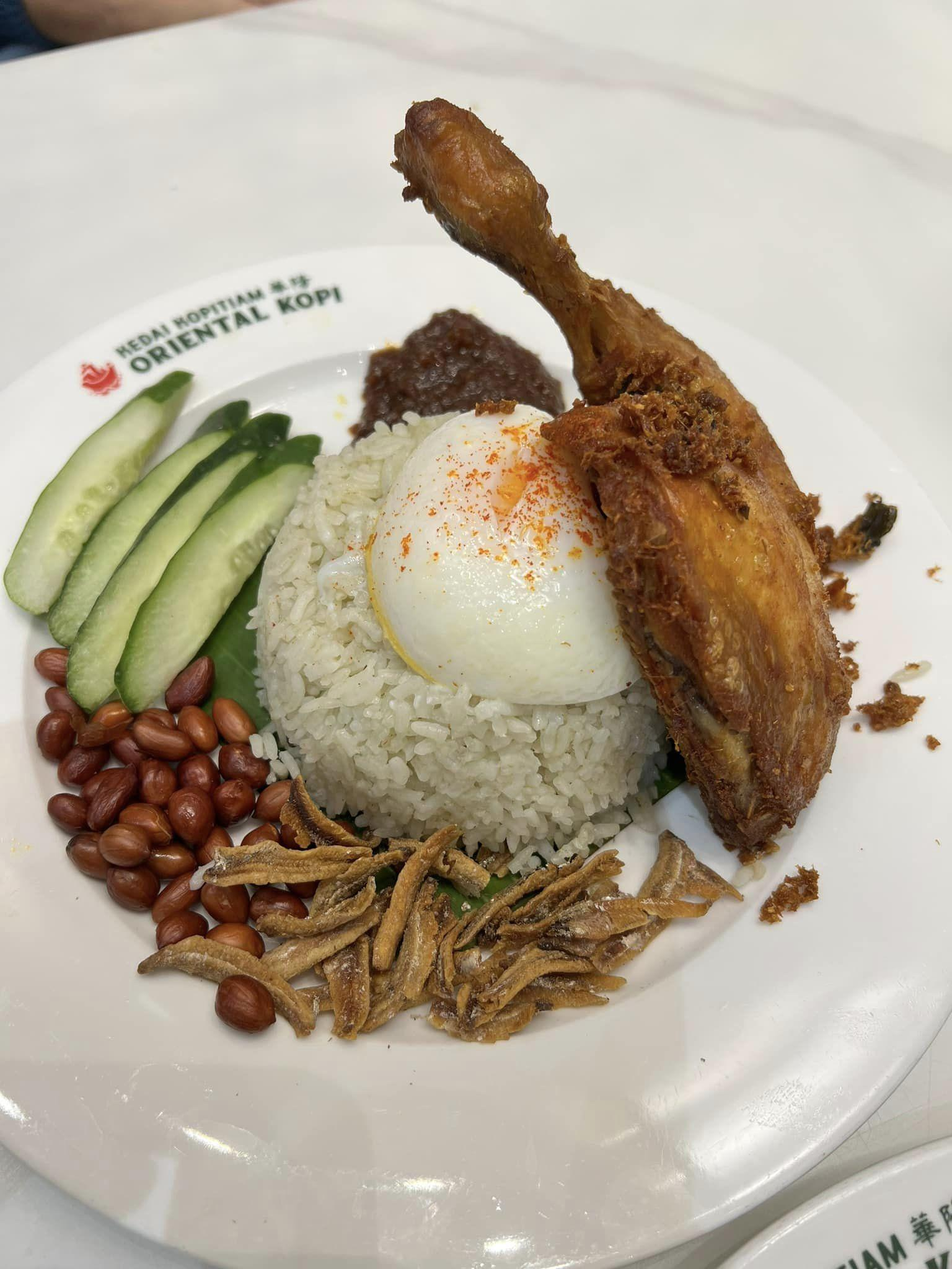Anchovies: (188, 788, 744, 1045)
Boiled-Egg: (364, 404, 643, 708)
Cucumber: (10, 384, 320, 713)
Fried-Chicken: (391, 101, 857, 866)
Peanuts: (34, 649, 292, 960), (214, 977, 276, 1034)
Rice: (248, 415, 668, 877)
Sambal: (363, 311, 575, 424)
